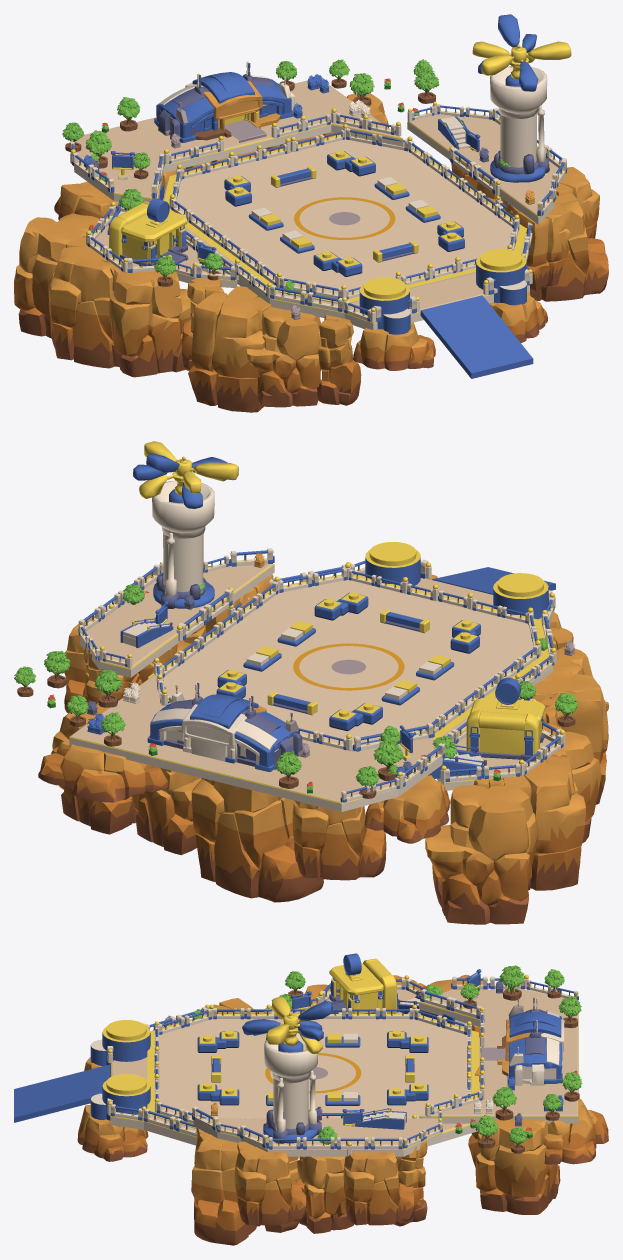
File: Cloudforge_Map.fbx
3 renders of one model, top to bottom at view 1: azimuth 30°, elevation 25°; view 2: azimuth 150°, elevation 25°; view 3: azimuth 270°, elevation 25°, orthographic. The views are drawn at different scales.
Parts seen in each view (by area): view 1: Arena_Inner_Base, TurbineTower.001, Platform_AirBase, Rock_07_rocks.001, Rock_05_rock3.001, Rock_04_rocks.001, Rock_08_rock3.001, Bridge_Deck, Rock_02_rock3.001, Rock_14_rocks.001, Platform_TurbineTower, SideFacility.001 (+29 smaller); view 2: Arena_Inner_Base, Rock_02_rock3.001, Platform_AirBase, Rock_20_rocks.001, TurbineTower.001, Rock_04_rocks.001, Rock_01_rocks.001, Platform_TurbineTower, Rock_00_rock2.003, SideFacility.001, Rock_19_rock3.002, Rock_00_rock2.002 (+28 smaller); view 3: Arena_Inner_Base, Platform_AirBase, TurbineTower.001, Rock_19_rock3.003, Rock_14_rocks.001, Rock_17_rocks.004, Rock_17_rocks.003, Platform_TurbineTower, SideFacility.001, Rock_16_rock3.001, Bridge_Deck, Rock_00_rock2.003 (+23 smaller).
Part boxes in pixels (x1=…): Arena_Inner_Base: x1=173, y1=139, x2=513, y2=303; TurbineTower.001: x1=472, y1=14, x2=571, y2=182; Platform_AirBase: x1=73, y1=80, x2=403, y2=201; Rock_07_rocks.001: x1=188, y1=286, x2=271, y2=412; Rock_05_rock3.001: x1=108, y1=265, x2=190, y2=377; Rock_04_rocks.001: x1=48, y1=236, x2=119, y2=368; Rock_08_rock3.001: x1=246, y1=307, x2=321, y2=407; Bridge_Deck: x1=420, y1=295, x2=533, y2=378; Rock_02_rock3.001: x1=14, y1=213, x2=99, y2=338; Rock_14_rocks.001: x1=502, y1=192, x2=608, y2=301; Platform_TurbineTower: x1=407, y1=114, x2=565, y2=224; SideFacility.001: x1=109, y1=198, x2=188, y2=266; Arena_Inner_Base: x1=163, y1=580, x2=536, y2=744; Rock_02_rock3.001: x1=425, y1=785, x2=538, y2=924; Platform_AirBase: x1=69, y1=669, x2=442, y2=811; Rock_20_rocks.001: x1=191, y1=778, x2=323, y2=902; TurbineTower.001: x1=133, y1=441, x2=238, y2=608; Rock_04_rocks.001: x1=503, y1=755, x2=585, y2=890; Rock_01_rocks.001: x1=292, y1=800, x2=386, y2=880; Platform_TurbineTower: x1=80, y1=563, x2=274, y2=677; Rock_00_rock2.003: x1=38, y1=740, x2=168, y2=802; SideFacility.001: x1=466, y1=677, x2=545, y2=761; Rock_19_rock3.002: x1=131, y1=768, x2=201, y2=855; Rock_00_rock2.002: x1=365, y1=775, x2=449, y2=843; Arena_Inner_Base: x1=157, y1=1019, x2=467, y2=1128; Platform_AirBase: x1=419, y1=989, x2=578, y2=1123; TurbineTower.001: x1=242, y1=997, x2=332, y2=1143; Rock_19_rock3.003: x1=475, y1=1120, x2=560, y2=1214; Rock_14_rocks.001: x1=191, y1=1134, x2=260, y2=1245; Rock_17_rocks.004: x1=234, y1=1141, x2=306, y2=1225; Rock_17_rocks.003: x1=343, y1=1152, x2=414, y2=1225; Platform_TurbineTower: x1=193, y1=1118, x2=441, y2=1156; SideFacility.001: x1=329, y1=953, x2=399, y2=1013; Rock_16_rock3.001: x1=297, y1=1156, x2=353, y2=1233; Bridge_Deck: x1=14, y1=1064, x2=110, y2=1122; Rock_00_rock2.003: x1=543, y1=1098, x2=608, y2=1164.
Size of the model in its own units: 4000 by 2174 by 4574.
